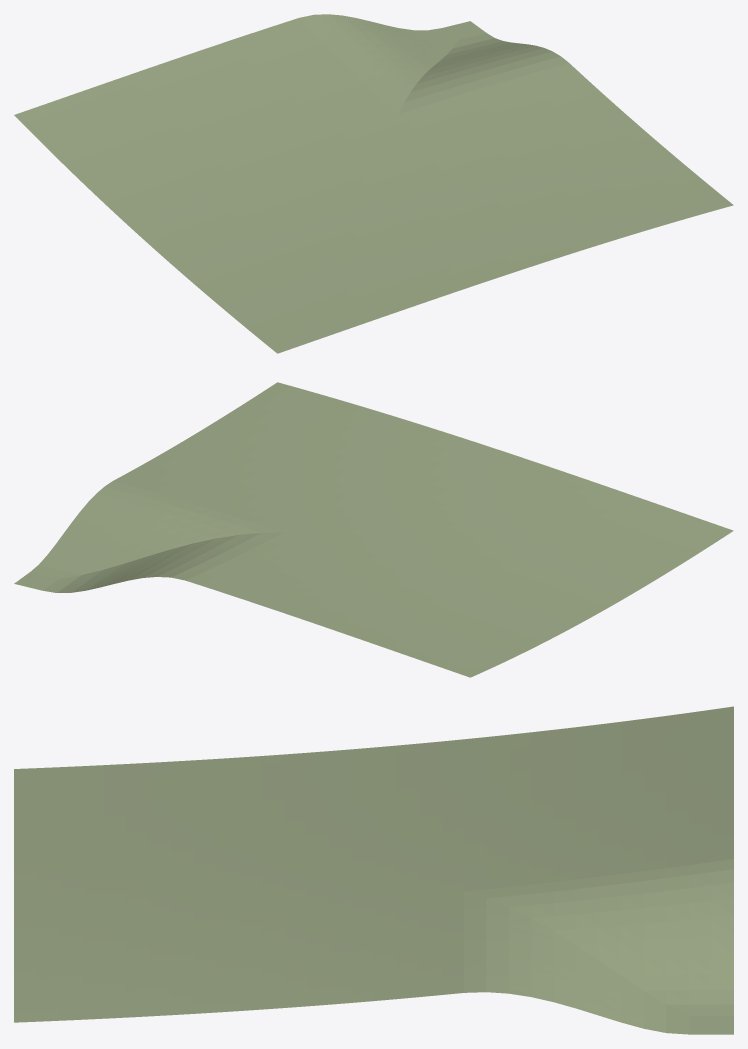
Rendered from valley-1-3.glb.
3 renders of one model, top to bottom at view 1: azimuth 30°, elevation 25°; view 2: azimuth 150°, elevation 25°; view 3: azimuth 270°, elevation 25°, orthographic. The views are drawn at different scales.
Visible parts, largest first — view 1: valley-1-3; view 2: valley-1-3; view 3: valley-1-3.
Boxes of the visible parts, bbox=[...] form: valley-1-3: bbox=[14, 14, 733, 353]; valley-1-3: bbox=[14, 382, 733, 677]; valley-1-3: bbox=[14, 706, 733, 1034].
Bounding box in the file's own units: 256 × 39.37 × 256.
